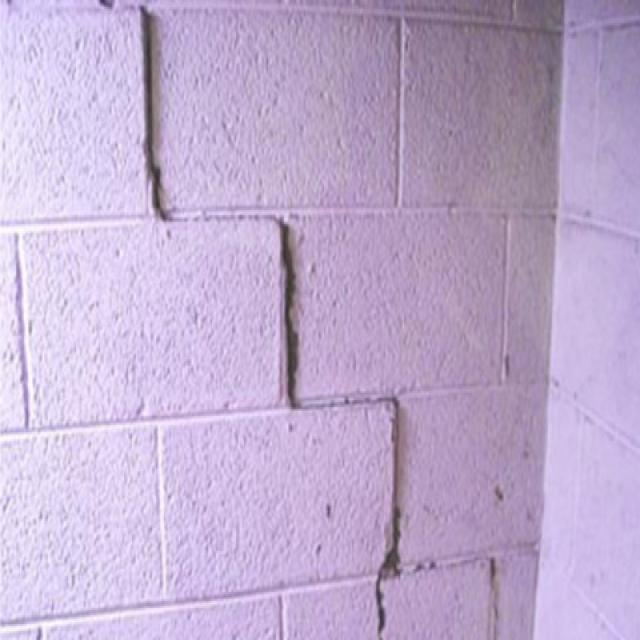Crack: (132, 4, 401, 638)
